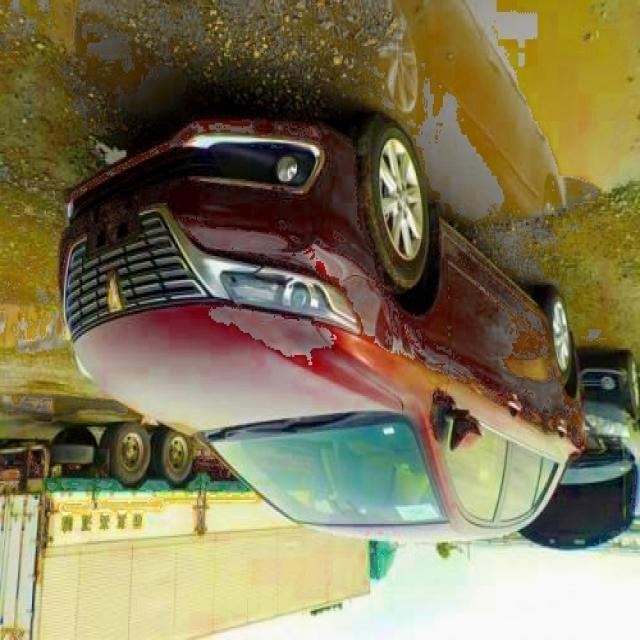maroon: (52, 124, 584, 548)
